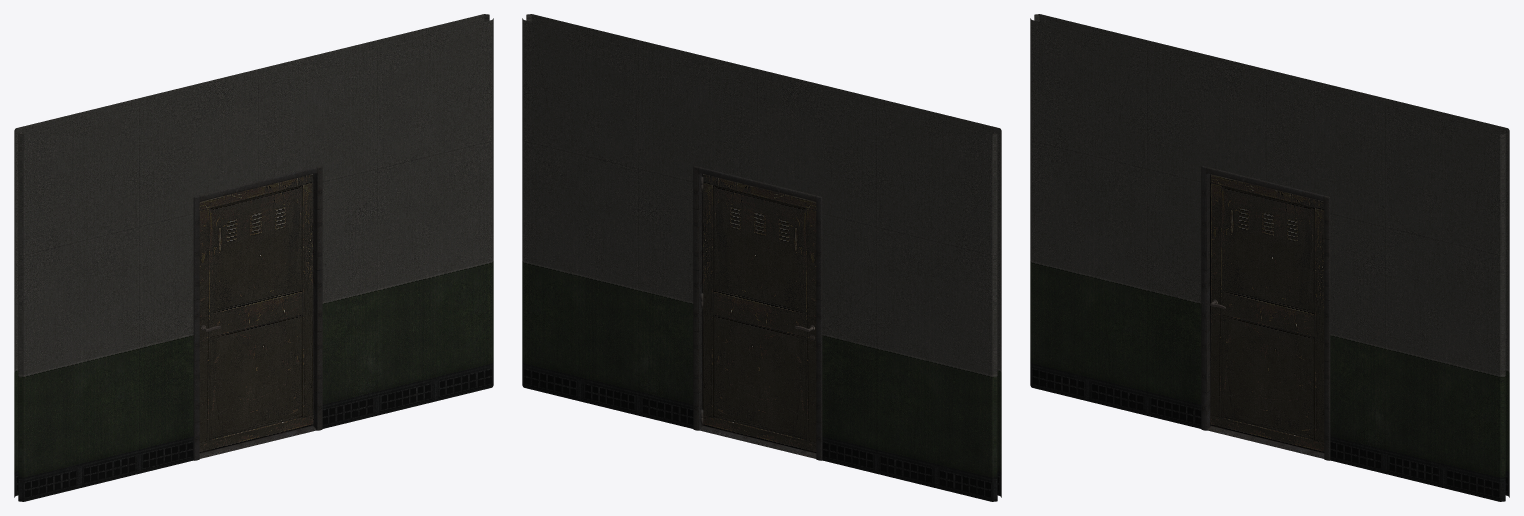
The model's file is doorway_4_plain.glb.
3 views of the same model, side by side, from view 1: azimuth 30°, elevation 25°; view 2: azimuth 150°, elevation 25°; view 3: azimuth 330°, elevation 25° (orthographic).
Parts seen in each view (by area): view 1: doorway_4_plain, door_8; view 2: doorway_4_plain, door_8; view 3: doorway_4_plain, door_8.
Boxes of the visible parts, box(x1,y1,x2,y2) form: doorway_4_plain: box(14, 14, 493, 501); door_8: box(199, 174, 313, 453); doorway_4_plain: box(522, 14, 1001, 501); door_8: box(700, 174, 816, 453); doorway_4_plain: box(1030, 14, 1509, 501); door_8: box(1210, 174, 1324, 453).
Size of the model in its own units: 4.06 by 3 by 0.18.
6 materials, 6 textured.
